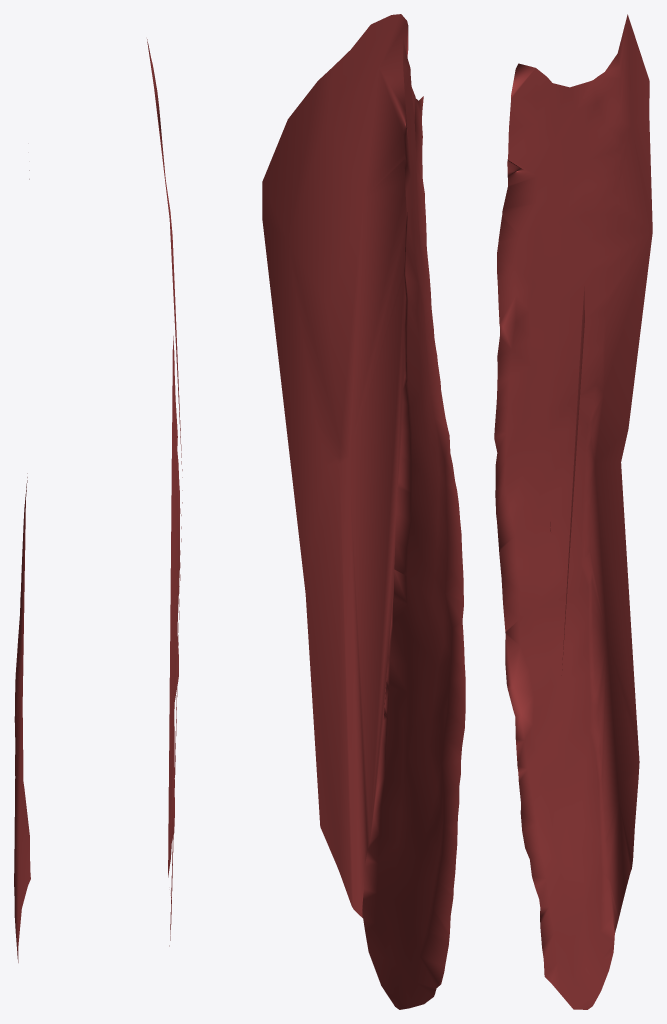
File: tibialis-posterior-muscle-or.glb
3 renders of one model, left to right at view 1: azimuth 30°, elevation 25°; view 2: azimuth 150°, elevation 25°; view 3: azimuth 270°, elevation 25°, orthographic.
Parts seen in each view (by area): view 1: Tibialis posterior muscle.or; view 2: Tibialis posterior muscle.or; view 3: Tibialis posterior muscle.or.
Part boxes in pixels (x1,y1,x2,y2): Tibialis posterior muscle.or: (14, 39, 182, 962); Tibialis posterior muscle.or: (262, 14, 465, 1009); Tibialis posterior muscle.or: (494, 14, 652, 1009).
Bounding box in the file's own units: 0.0321 × 0.1427 × 0.021.
